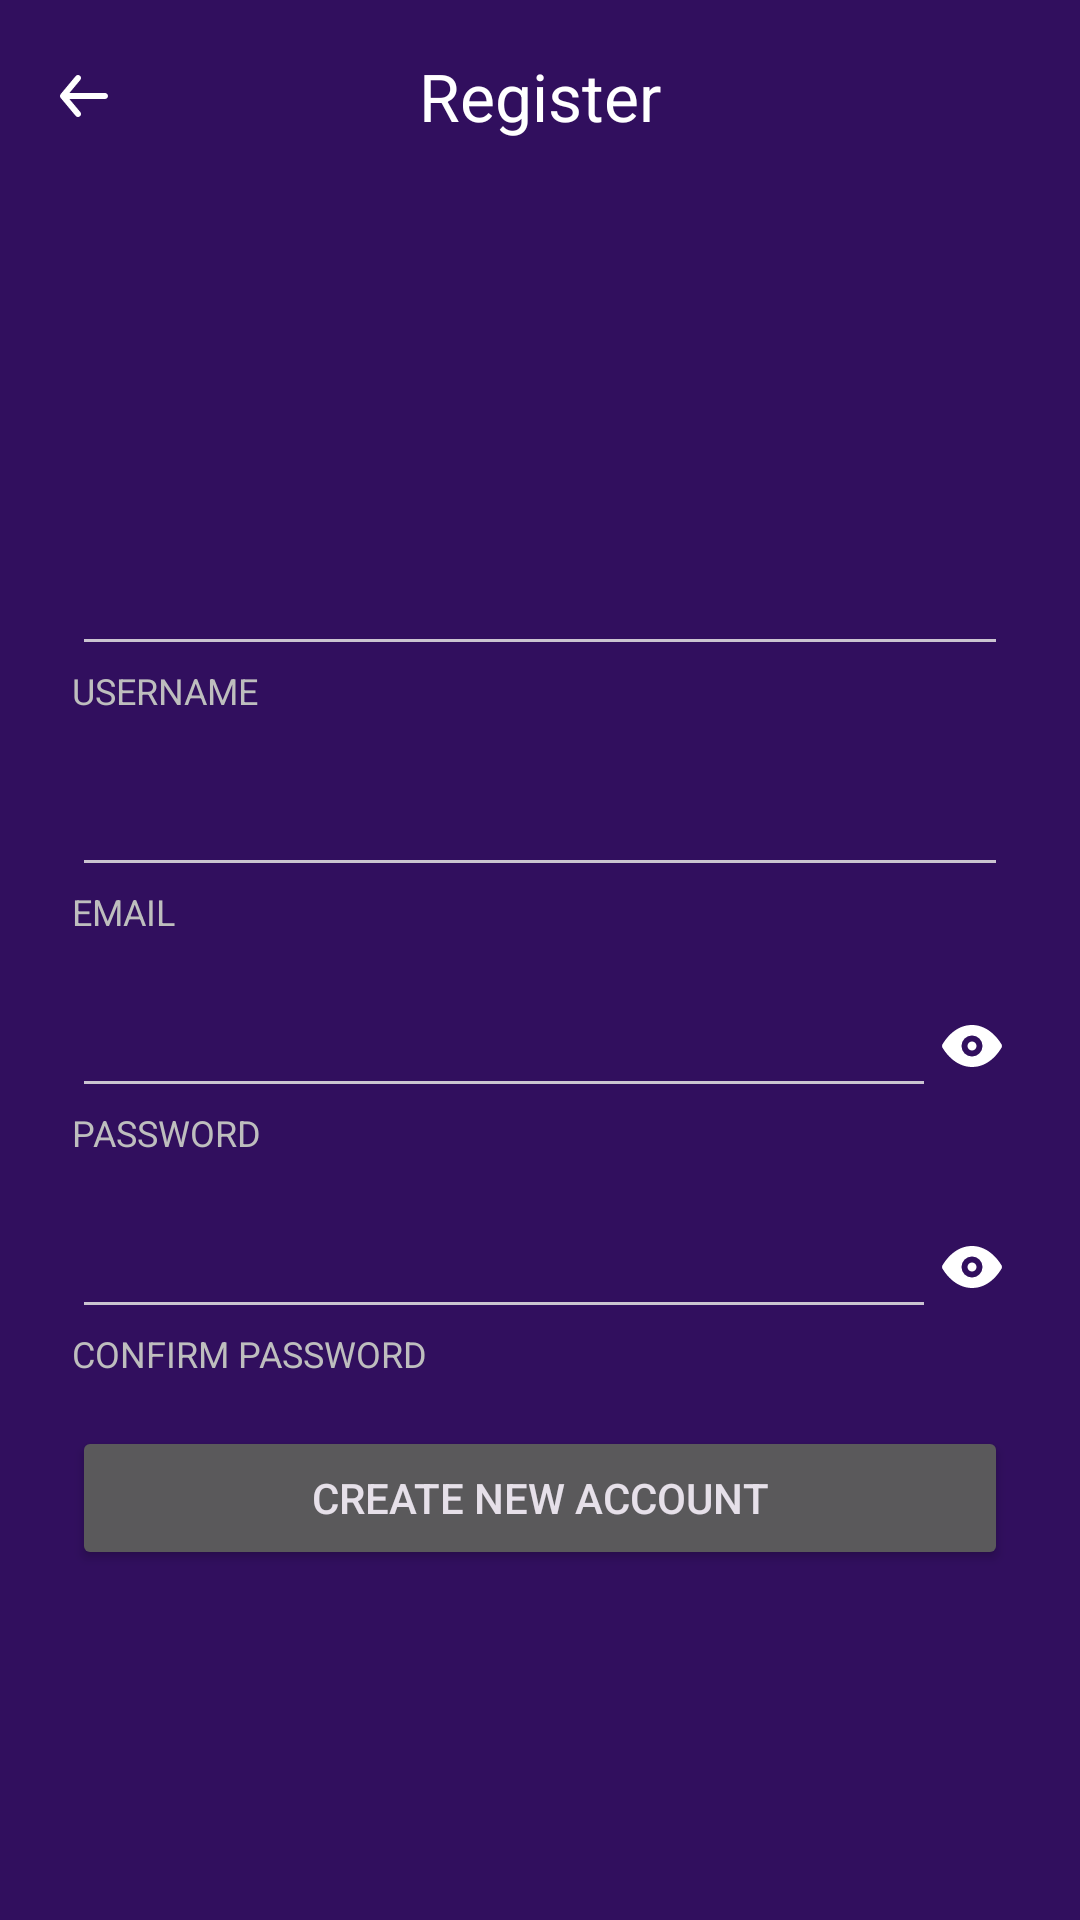

Locate icon controls on the screen. Image size 1080px×1920px, boxes as (x1, y1, x2, y2).
eye: (942, 1025, 1002, 1067), (942, 1246, 1002, 1288)
